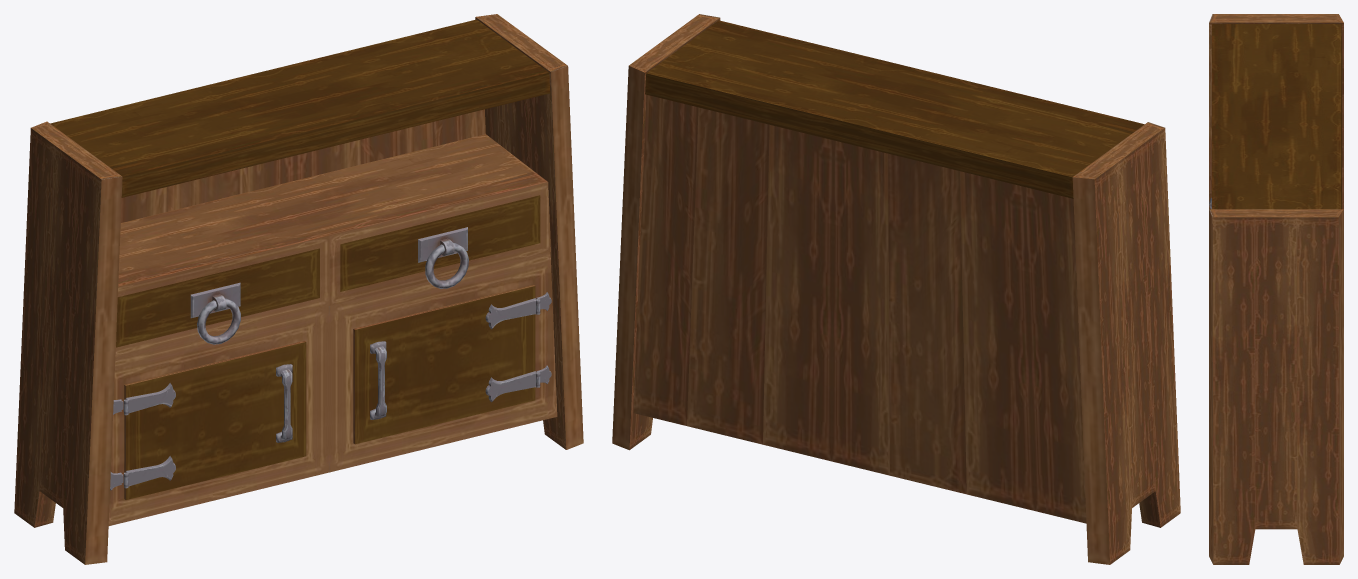
Rendered from cabinet.glb.
The picture shows the model from 3 angles, left to right: view 1: azimuth 30°, elevation 25°; view 2: azimuth 150°, elevation 25°; view 3: azimuth 270°, elevation 25°; orthographic projection. The views are drawn at different scales.
Visible parts, largest first — view 1: Cabinet; view 2: Cabinet; view 3: Cabinet.
Boxes of the visible parts, left/top/right/bottom form: Cabinet: left=14, top=14, right=583, bottom=564; Cabinet: left=612, top=14, right=1180, bottom=564; Cabinet: left=1209, top=14, right=1343, bottom=564.
Size of the model in its own units: 1.36 by 0.9974 by 0.3571.
2 materials, 2 textured.
